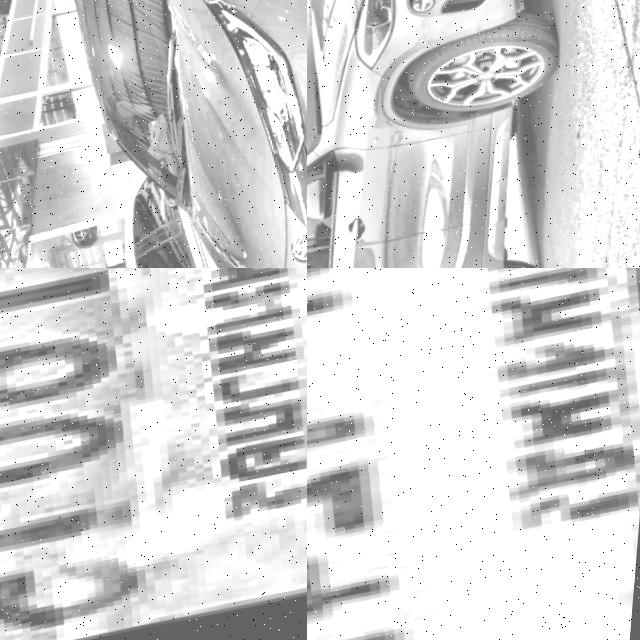license-plate: (307, 268, 640, 640), (0, 268, 307, 640)
